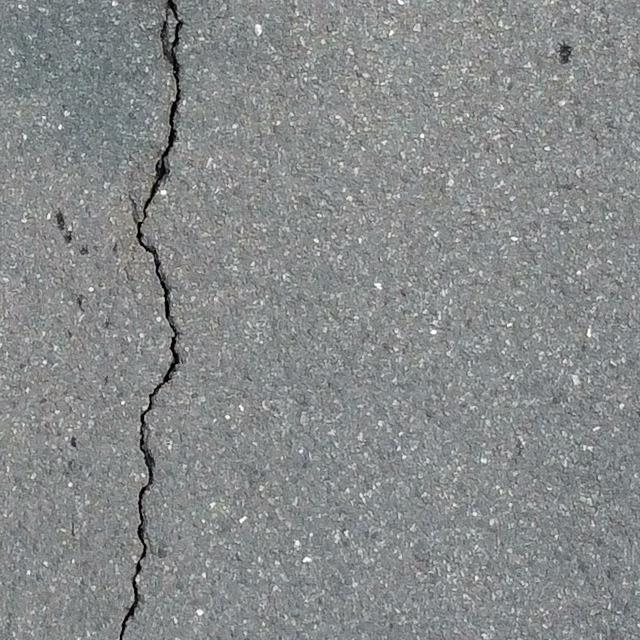LongitudinalCrack: (116, 1, 185, 640)
